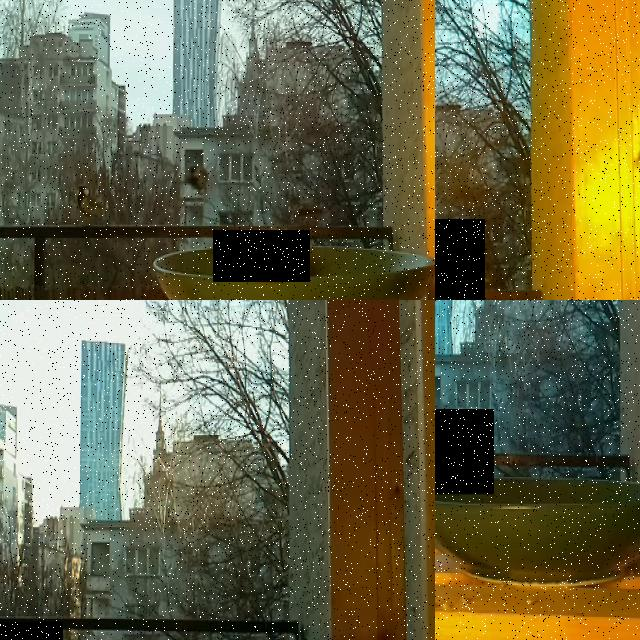Modraszka: (435, 408, 494, 494), (213, 230, 310, 282), (435, 219, 485, 300)
